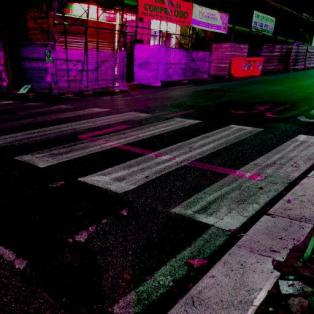Paso de Cebra: (74, 100, 314, 242)
